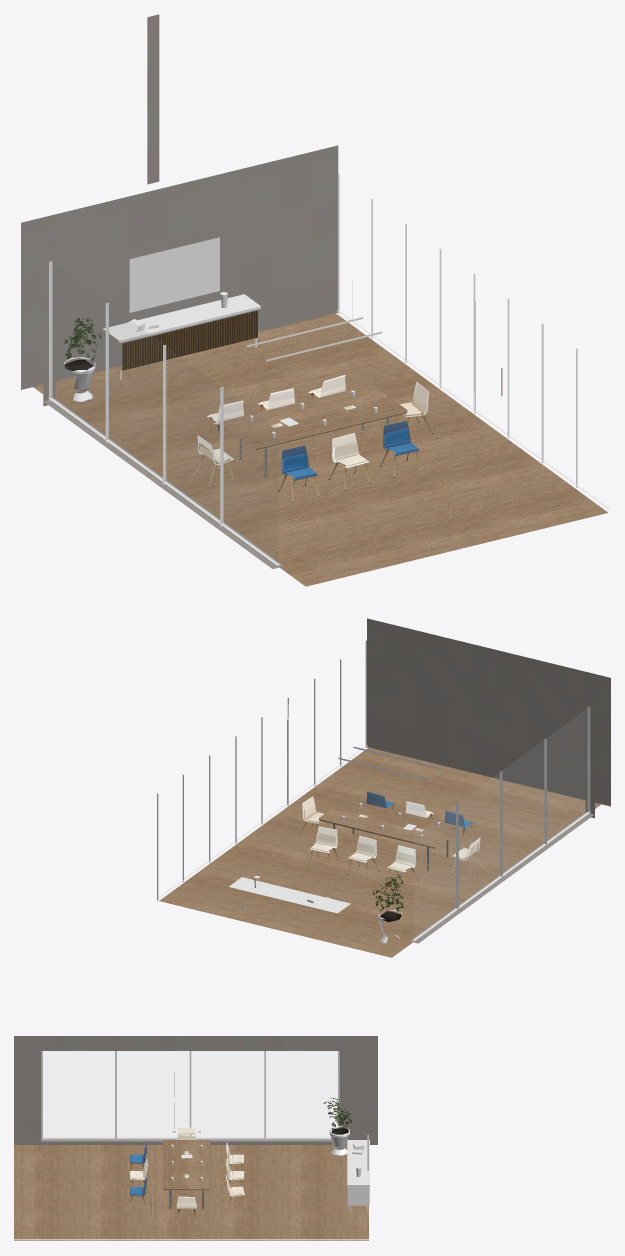
The model's file is z-meeting-lite.light.9279739c.glb.
3 views of the same model, one above another, from view 1: azimuth 30°, elevation 25°; view 2: azimuth 150°, elevation 25°; view 3: azimuth 270°, elevation 25° (orthographic). The views are drawn at different scales.
Parts seen in each view (by area): view 1: meeting_oak, meeting_plaster, meeting_satin, meeting_fx, meeting_gloss, meeting_proxy_cab, meeting_veg_atlas; view 2: meeting_oak, meeting_plaster, meeting_satin, meeting_fx, meeting_veg_atlas; view 3: meeting_oak, meeting_plaster, meeting_satin, meeting_fx, meeting_veg_atlas.
Part boxes in pixels (<box>): meeting_oak: <box>33,313,608,586</box>; meeting_plaster: <box>21,14,338,568</box>; meeting_satin: <box>48,174,610,565</box>; meeting_fx: <box>193,375,433,502</box>; meeting_gloss: <box>129,237,377,437</box>; meeting_proxy_cab: <box>122,310,257,370</box>; meeting_veg_atlas: <box>64,317,101,370</box>; meeting_oak: <box>159,747,600,957</box>; meeting_plaster: <box>367,618,610,943</box>; meeting_satin: <box>157,640,590,944</box>; meeting_fx: <box>298,791,483,889</box>; meeting_veg_atlas: <box>372,871,403,922</box>; meeting_oak: <box>14,1140,368,1240</box>; meeting_plaster: <box>14,1036,377,1144</box>; meeting_satin: <box>14,1051,369,1240</box>; meeting_fx: <box>129,1127,244,1225</box>; meeting_veg_atlas: <box>323,1097,351,1134</box>.
Bounding box in the file's own units: 6.55 × 3.3 × 16.4.
Materials: 10 (5 with a texture image).
